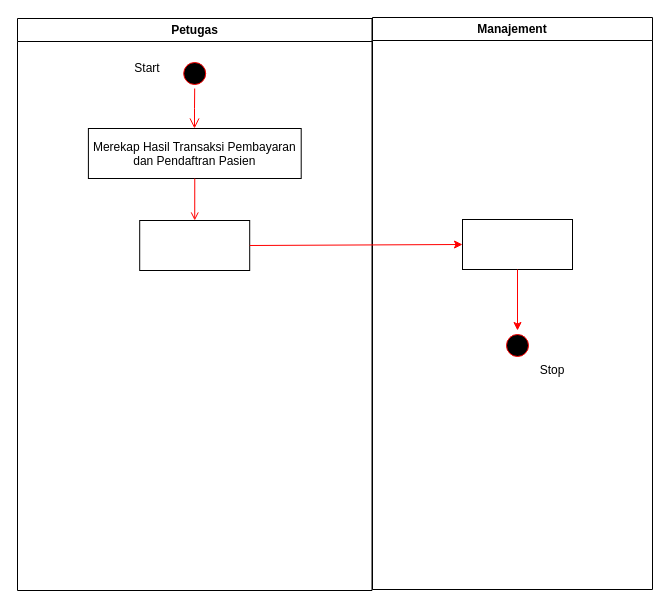
The diagram is 670 pixels wide and 608 high, and some of its shapes have lost their labels. The centre of each missing label's shape, as x and y in pixels:
"Membuat Laporan" goes at (194,245).
"Menerima Laporan" goes at (517,244).
